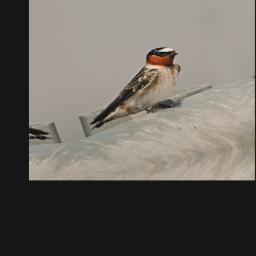Swallow: (66, 42, 199, 131)
